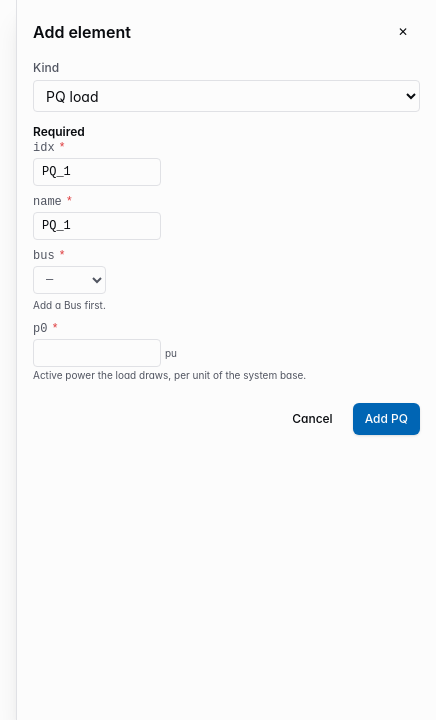
<AddElementPanel /> › lets the user move off the family default through the picker
Select "Bus" in the dropdown with test id "add-element-kind": (226, 96) [33,80,420,112]
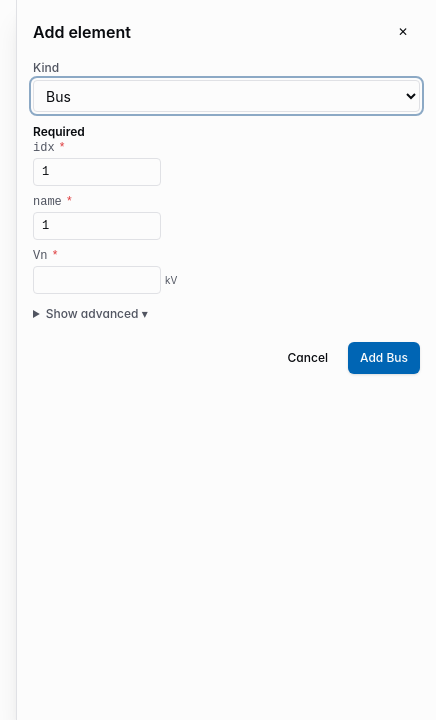
expect the form with test id "element-form-Bus" is shown: met, box [33,124,420,374]
